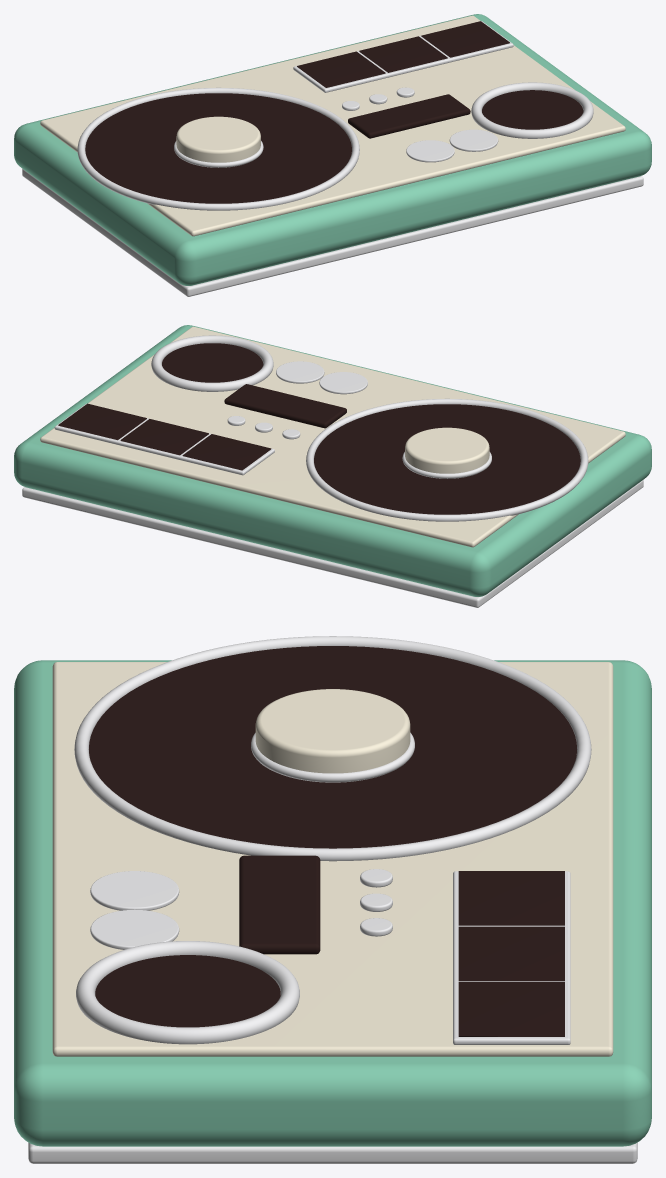
Rendered from console.glb.
The picture shows the model from 3 angles, top to bottom: view 1: azimuth 30°, elevation 25°; view 2: azimuth 150°, elevation 25°; view 3: azimuth 270°, elevation 25°; orthographic projection. The views are drawn at different scales.
Visible parts, largest first — view 1: Body; view 2: Body; view 3: Body.
Part boxes in pixels (x1,y1,x2,y2): Body: (14, 14, 651, 296); Body: (14, 325, 651, 607); Body: (14, 636, 651, 1163).
Bounding box in the file's own units: 10.4 × 2.54 × 6.6.
